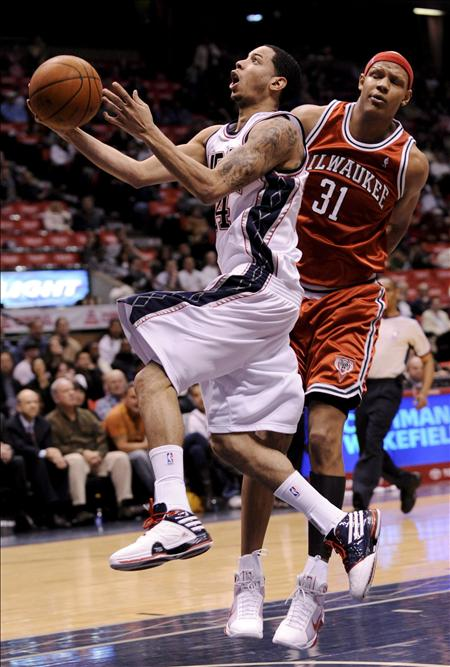basketball: (26, 54, 104, 130)
